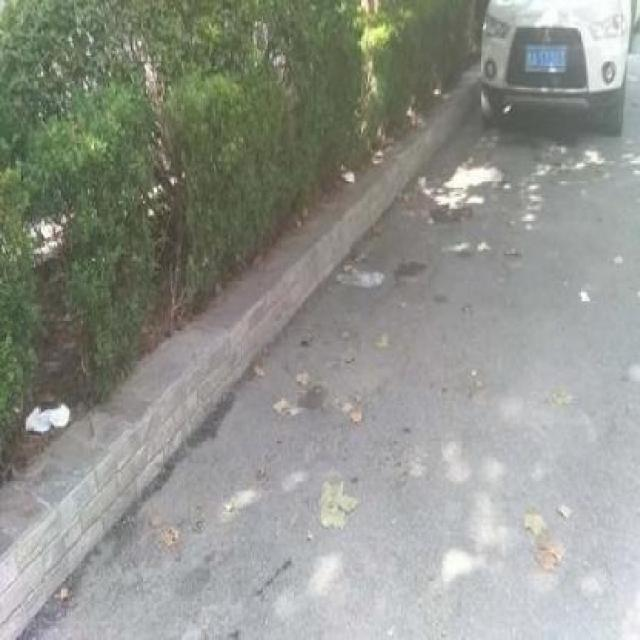garbage: (331, 243, 396, 298), (23, 388, 72, 430), (312, 474, 358, 518), (332, 154, 354, 184)
